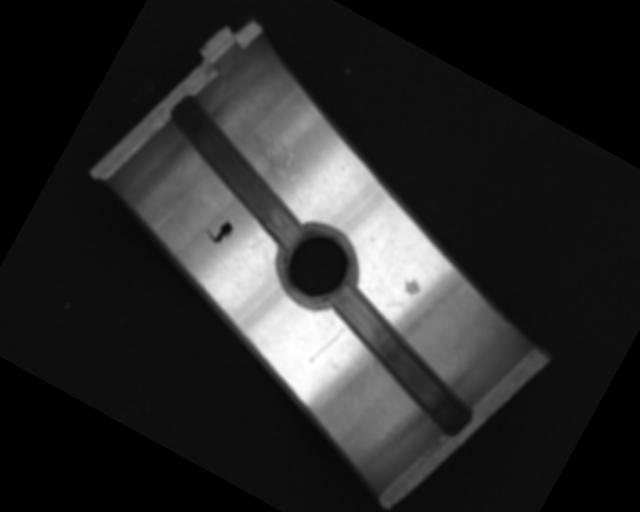blot: (201, 212, 237, 248)
bruise: (399, 273, 425, 299)
gap: (141, 91, 335, 251)
hole: (301, 279, 498, 439), (263, 216, 366, 319)
nick: (308, 318, 348, 370)
scratch: (215, 118, 324, 208)
